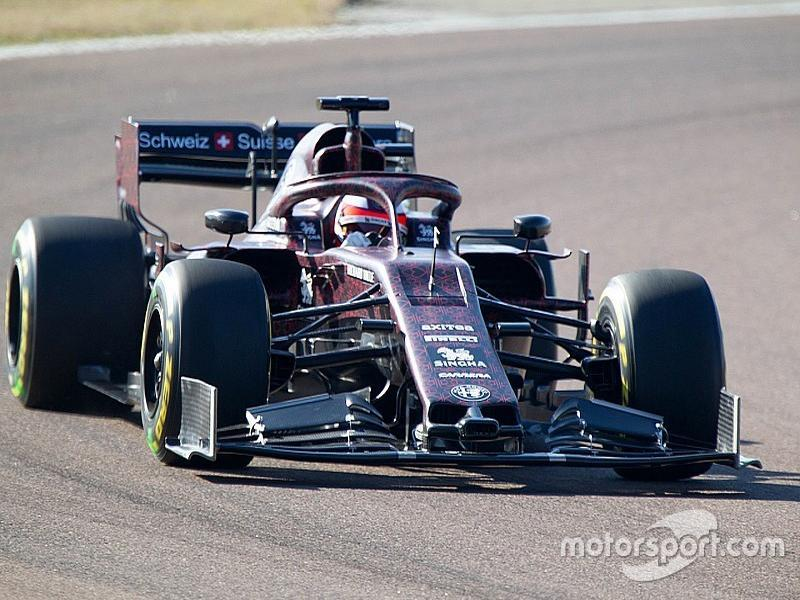f1: (25, 82, 735, 501)
